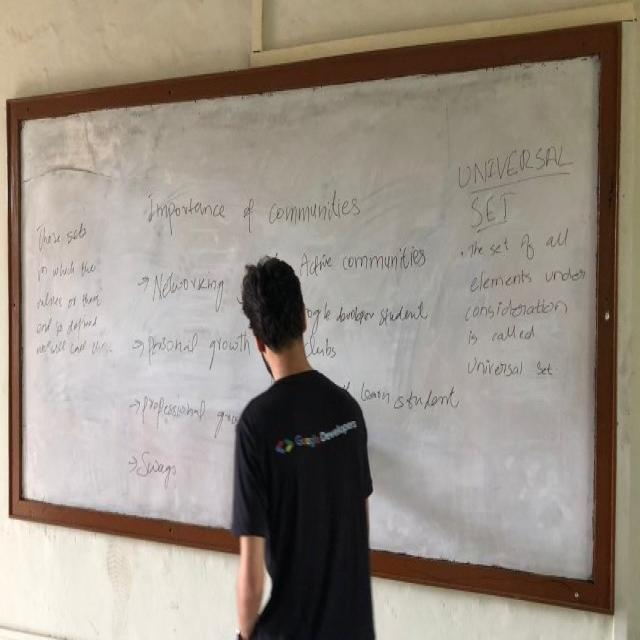Instructor: (223, 252, 362, 640)
White-board: (13, 44, 612, 597)
